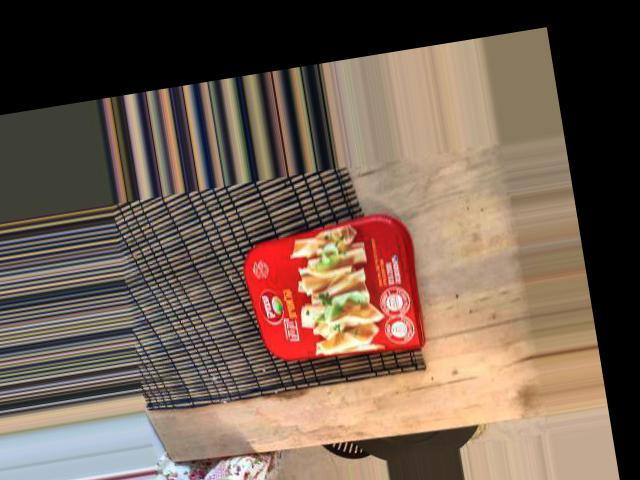cheese: (172, 168, 327, 368)
